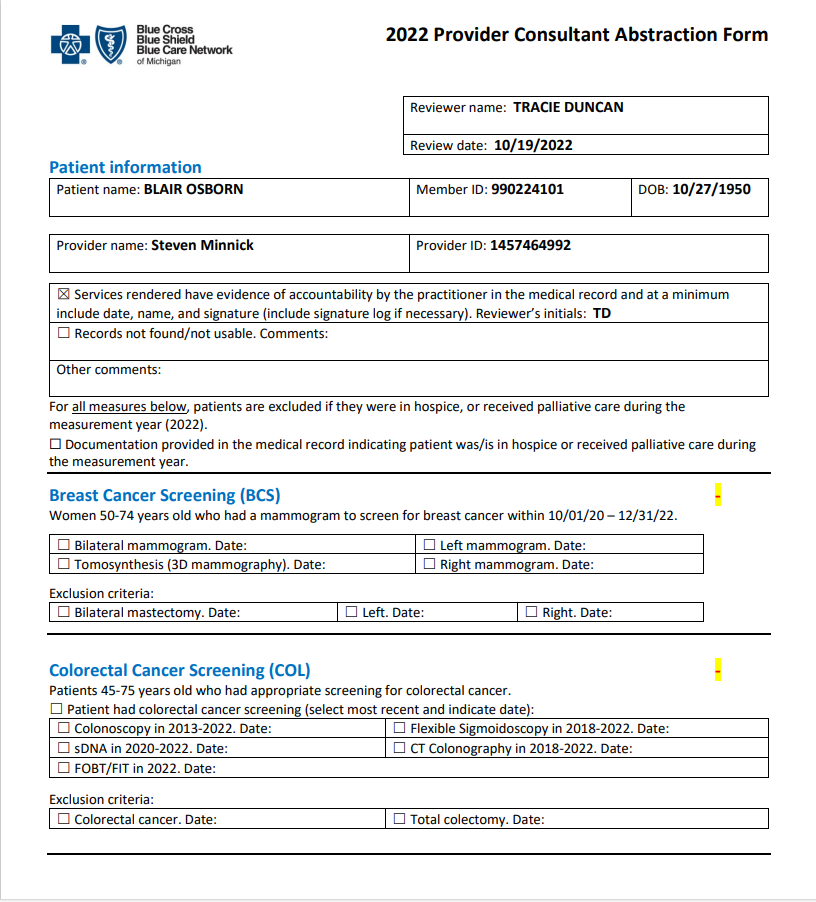checked: (56, 287, 71, 301)
